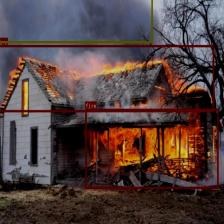fire: (0, 44, 214, 111), (85, 108, 219, 188)
smoke: (0, 0, 152, 42)
